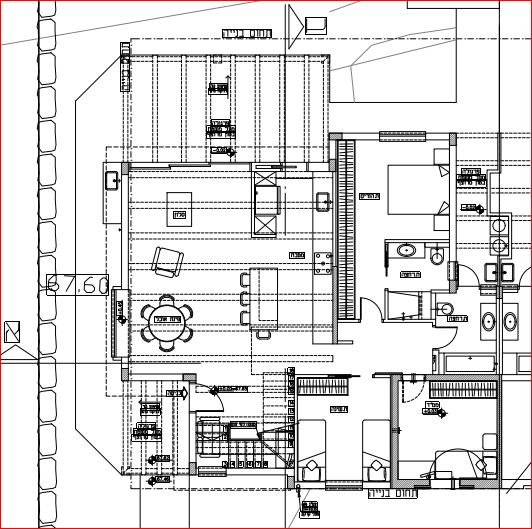door: (358, 292, 382, 318), (440, 324, 463, 350)
wall: (389, 375, 398, 489), (425, 375, 500, 379)
